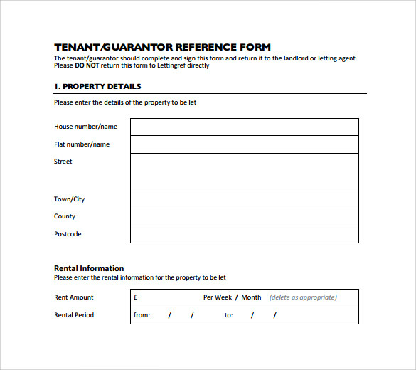textbox: (127, 148, 361, 196), (126, 115, 363, 142), (124, 221, 364, 246), (127, 131, 363, 156), (127, 205, 363, 228), (127, 287, 363, 309), (127, 188, 361, 210), (125, 306, 362, 326), (270, 304, 362, 326), (188, 304, 227, 327), (247, 304, 280, 328), (164, 304, 196, 326), (230, 303, 256, 327), (146, 305, 174, 325)
